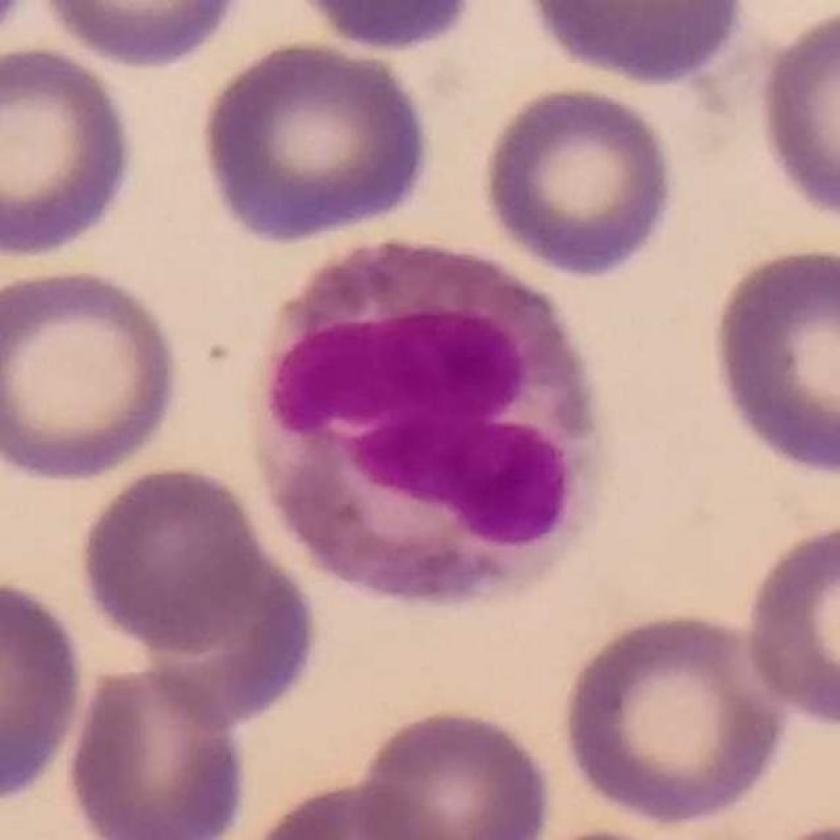eosinophil: (253, 234, 609, 616)
